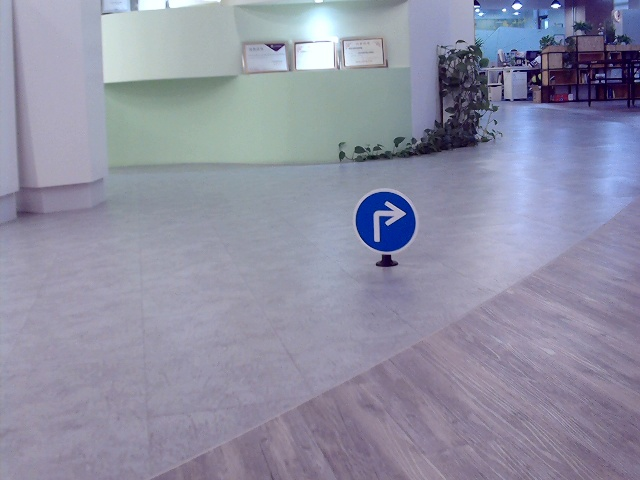turn_right: (368, 201, 404, 241)
